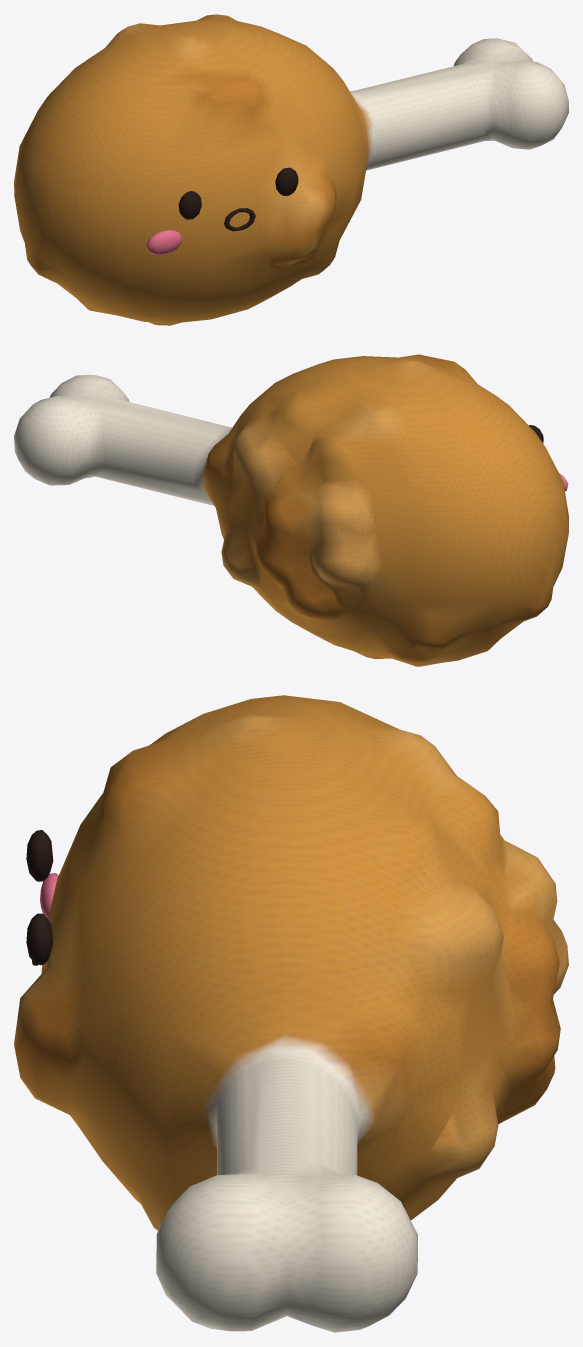
File: keepsake-fried-chicken-plush.glb
The picture shows the model from 3 angles, top to bottom: view 1: azimuth 30°, elevation 25°; view 2: azimuth 150°, elevation 25°; view 3: azimuth 270°, elevation 25°; orthographic projection. The views are drawn at different scales.
Visible parts, largest first — view 1: keepsake-fried-chicken-plush; view 2: keepsake-fried-chicken-plush; view 3: keepsake-fried-chicken-plush.
Boxes of the visible parts, x1,y1,x2,y2 form: keepsake-fried-chicken-plush: [14, 14, 568, 325]; keepsake-fried-chicken-plush: [14, 354, 568, 666]; keepsake-fried-chicken-plush: [14, 695, 568, 1332].
Bounding box in the file's own units: 0.25 × 0.1288 × 0.1301.
1 material, 1 textured.
